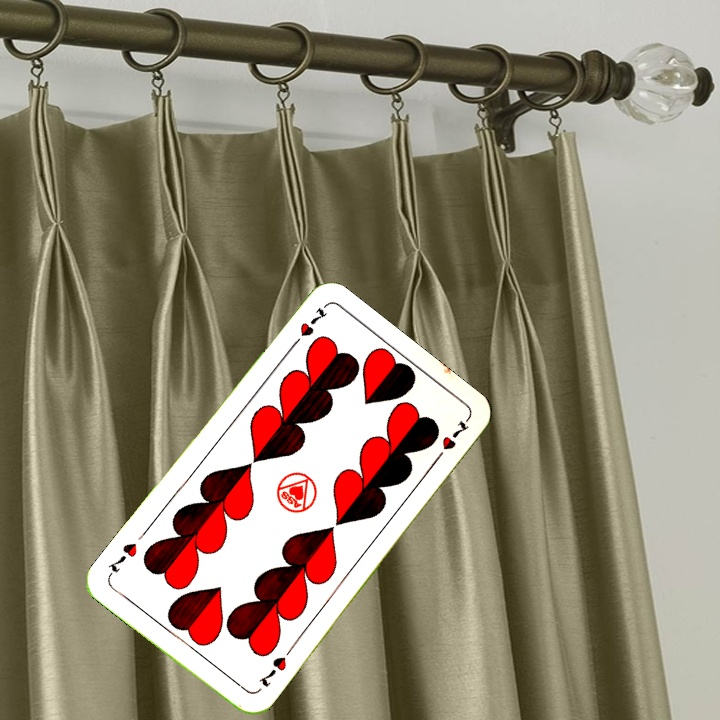H7: (286, 302, 330, 352), (254, 652, 289, 690)
